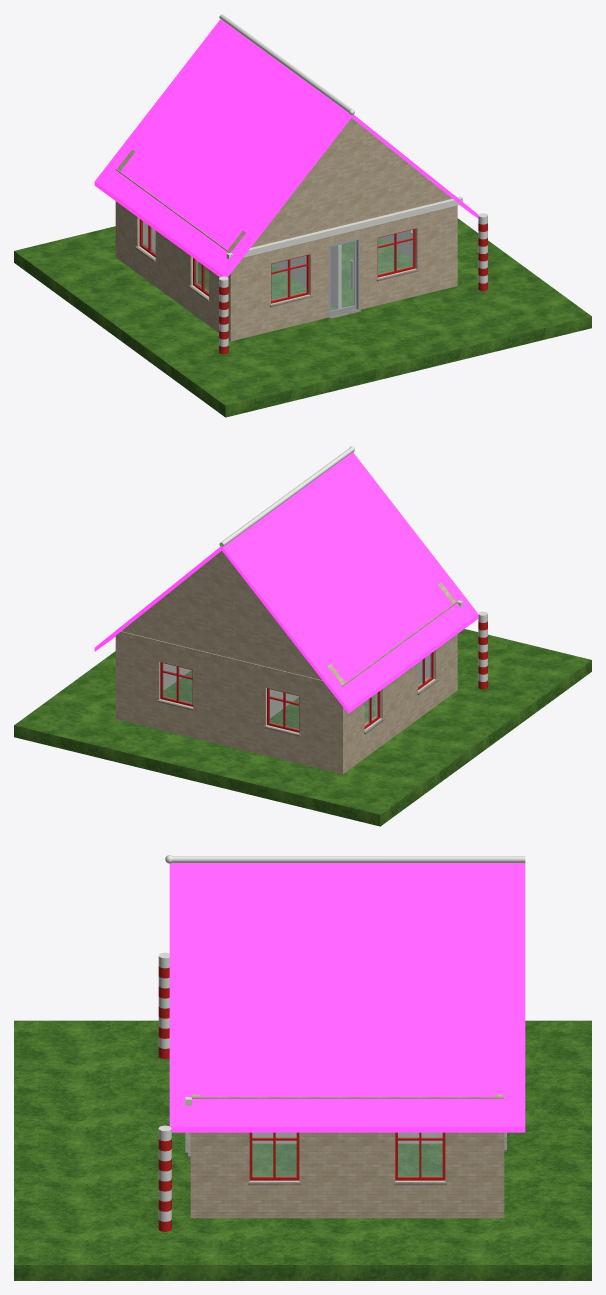
Rendered from b_gingerbread_house.gltf.
3 views of the same model, one above another, from view 1: azimuth 30°, elevation 25°; view 2: azimuth 150°, elevation 25°; view 3: azimuth 270°, elevation 25° (orthographic). The views are drawn at different scales.
Parts seen in each view (by area): view 1: S_gingerbread_house, D_gingerbread_house_F1_S2_Door0; view 2: S_gingerbread_house; view 3: S_gingerbread_house.
Part boxes in pixels (left/top/right/bottom): S_gingerbread_house: left=14, top=14, right=591, bottom=417; D_gingerbread_house_F1_S2_Door0: left=330, top=240, right=356, bottom=314; S_gingerbread_house: left=14, top=446, right=591, bottom=826; S_gingerbread_house: left=14, top=855, right=591, bottom=1280.
Bounding box in the file's own units: 13 × 7.53 × 13.
15 materials, 8 textured.
